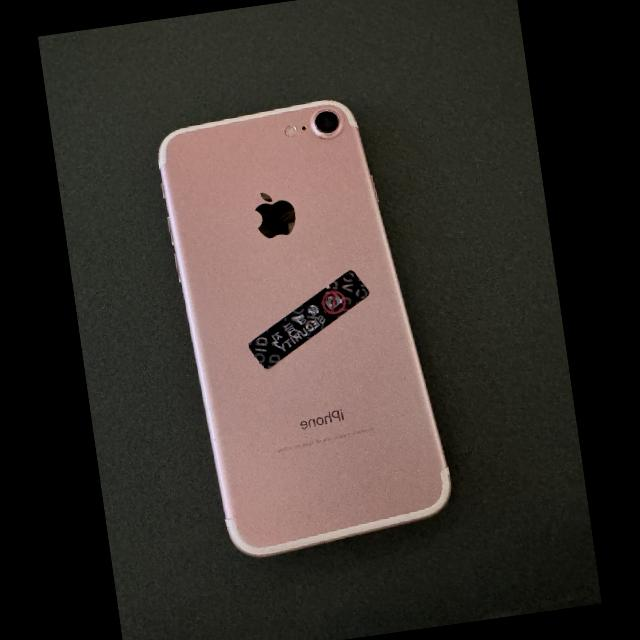lens: (314, 109, 338, 133)
phone: (159, 102, 450, 556)
sticker: (249, 270, 369, 369)
